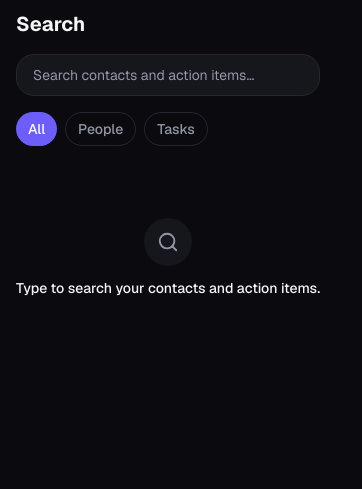
SearchPage › debounces the query and shows grouped results
Type "alice" into the field with placeholder "Search contacts and action items…" at (168, 75), box [16,54,320,96]
Wait 300 ms
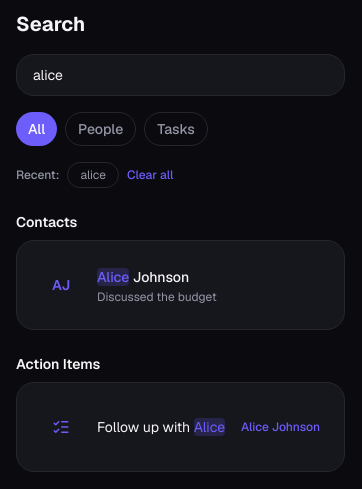
Expected: the heading "Contacts" is shown, [16,213,77,231]
Now the text "Follow up with Alice" is shown, box [97,417,225,437]
Now the text "Discussed the budget" is shown, box [97,289,217,305]
